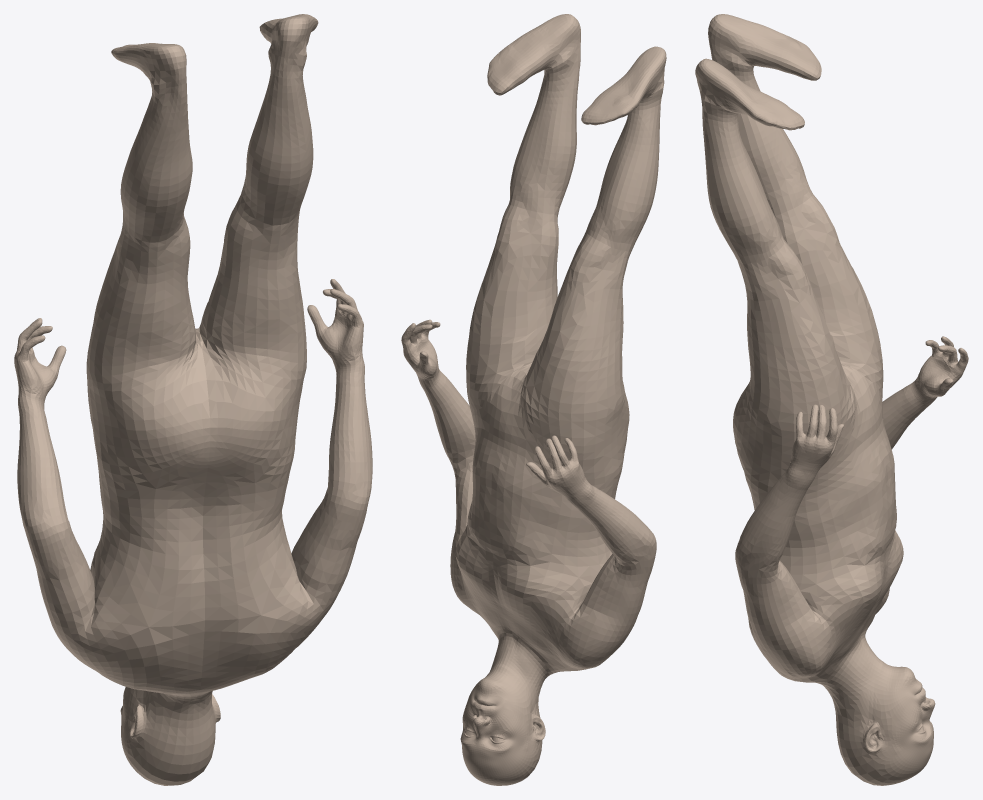
The model's file is output_avatar.glb.
The picture shows the model from 3 angles, left to right: view 1: azimuth 30°, elevation 25°; view 2: azimuth 150°, elevation 25°; view 3: azimuth 270°, elevation 25°; orthographic projection. The views are drawn at different scales.
Visible parts, largest first — view 1: world; view 2: world; view 3: world.
Boxes of the visible parts, <box> form: world: <box>14,14,372,785</box>; world: <box>401,14,666,785</box>; world: <box>695,14,968,785</box>.
Bounding box in the file's own units: 0.6435 × 1.63 × 0.5531.
